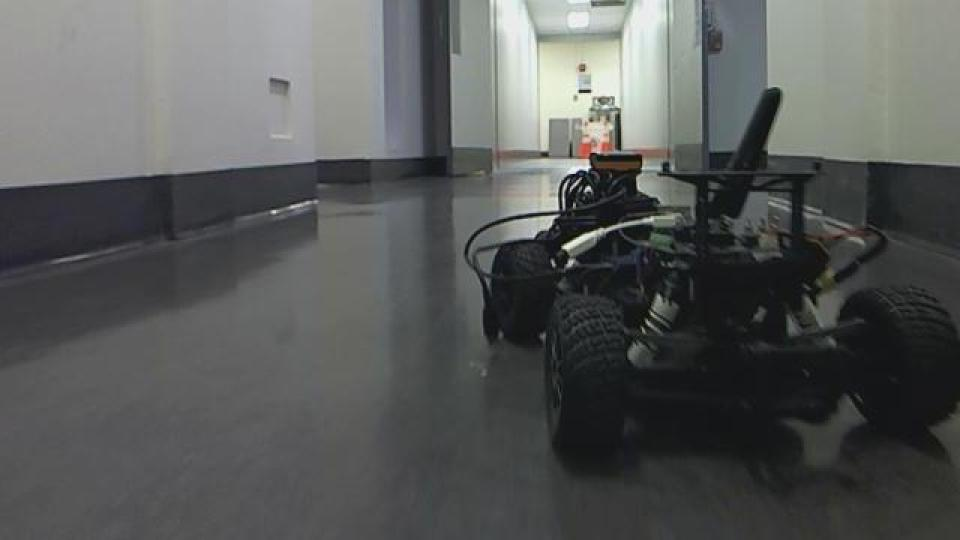car: (467, 84, 957, 477)
